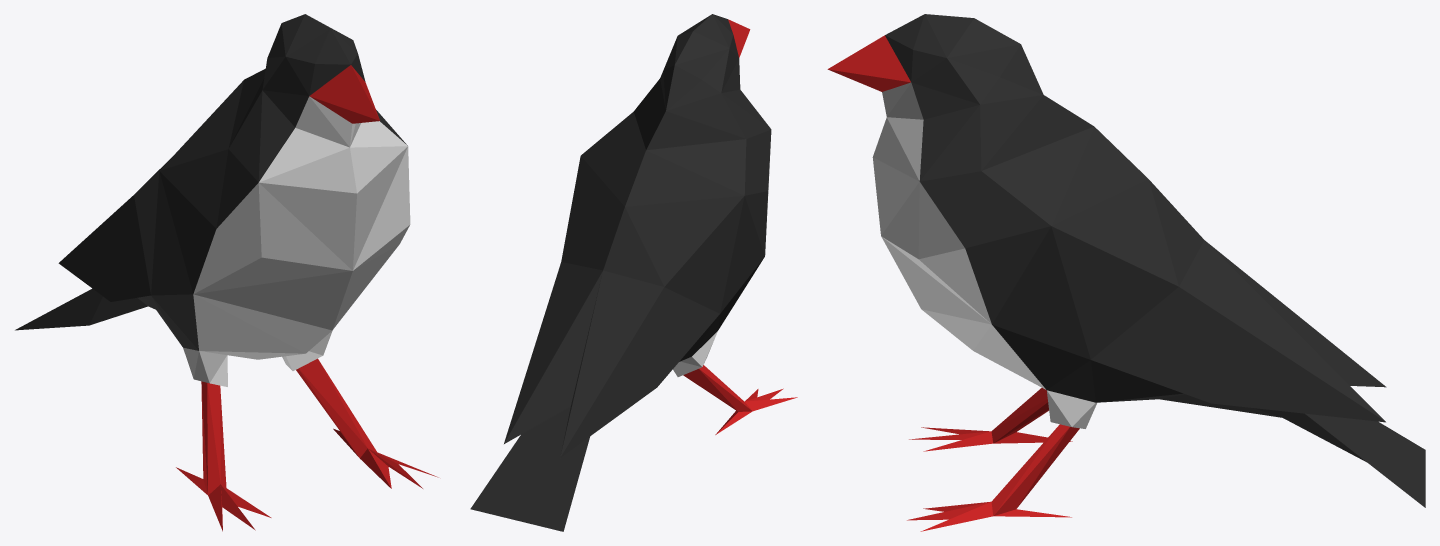
Rendered from Bird_M_v1_Carrie.FBX.
3 views of the same model, side by side, from view 1: azimuth 30°, elevation 25°; view 2: azimuth 150°, elevation 25°; view 3: azimuth 270°, elevation 25° (orthographic). The views are drawn at different scales.
Visible parts, largest first — view 1: bird; view 2: bird; view 3: bird.
Boxes of the visible parts, x1,y1,x2,y2 form: bird: (15,14,438,531); bird: (470,14,797,531); bird: (827,14,1425,531).
Size of the model in its own units: 47.06 by 97.65 by 114.
